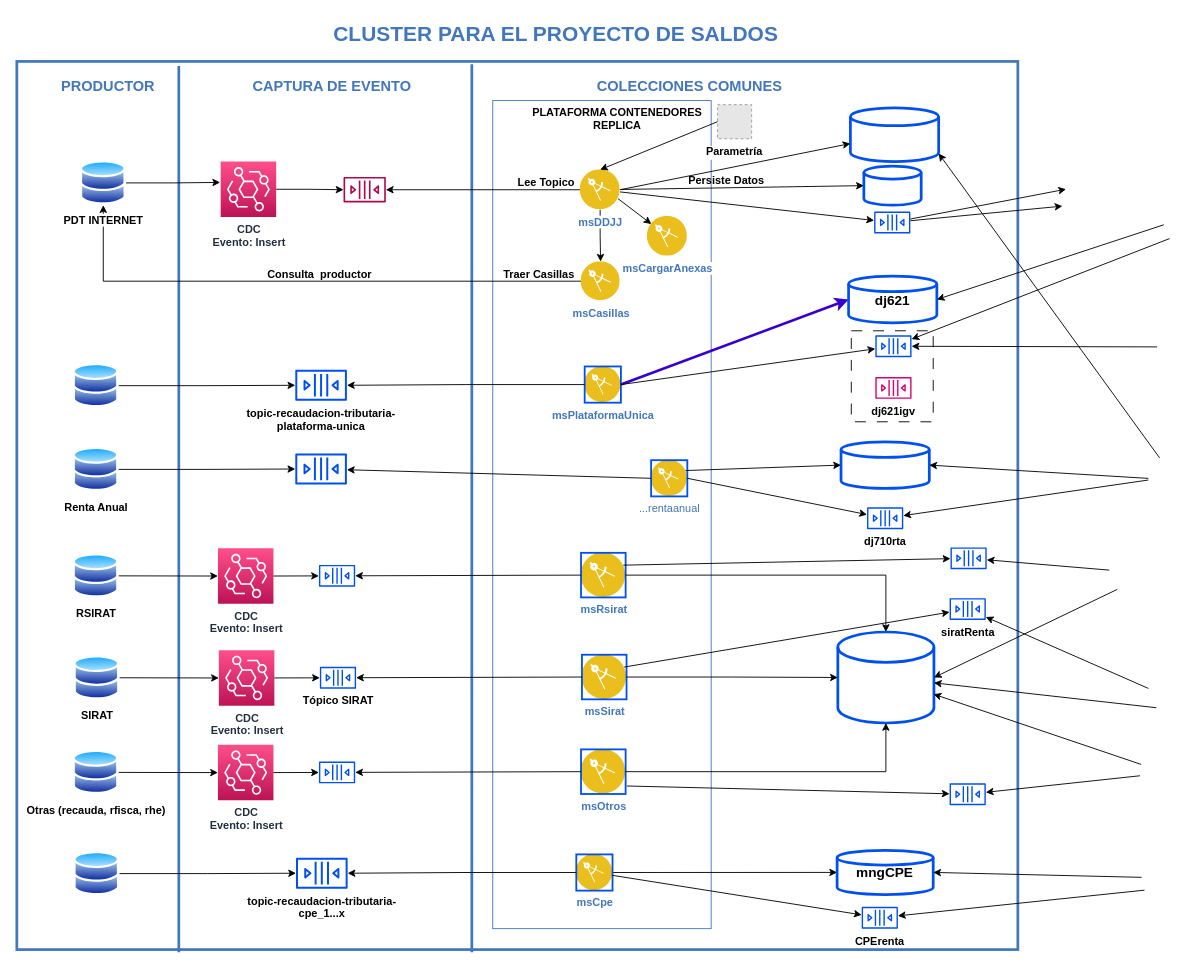
The diagram is 1193 pixels wide and 969 high, and some of its shapes have lost their labels. Grey dashed boxes stand in for pictures. The shapes that lost their labels are listed below. From the top down, each one's centre as x and y in pixels, then its label:
At point (894, 134): "mngDDJJ".
At point (364, 189): "topic-recaudacion-tributaria- declapago-t3779".
At point (892, 185): "Anexas".
At point (891, 222): "ddjjRenta".
At point (893, 345): "dj621rta".
At point (95, 385): "Plataforma única DJ621".
At point (320, 469): "topic-recaudacion-tributaria- rentaAnual".
At point (884, 464): "DJ710-709".
At point (336, 575): "Tópico RSIRAT".
At point (968, 557): "rsiratRenta".
At point (885, 677): "mng_ otrosEventos".
At point (336, 772): "Tópico Otras".
At point (967, 793): "otrosRenta".
At point (96, 873): "CPE".
